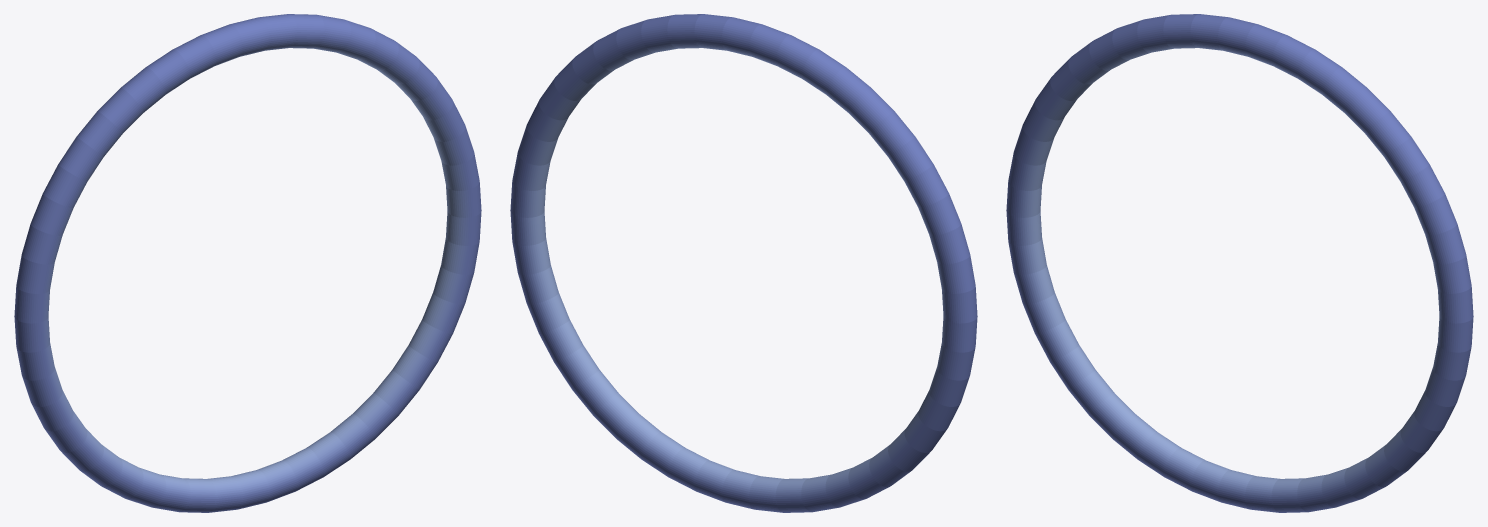
3 views of the same model, side by side, from view 1: azimuth 30°, elevation 25°; view 2: azimuth 150°, elevation 25°; view 3: azimuth 330°, elevation 25° (orthographic).
Visible parts, largest first — view 1: world; view 2: world; view 3: world.
Part boxes in pixels (bbox=[...]): world: bbox=[14, 14, 481, 512]; world: bbox=[510, 14, 977, 512]; world: bbox=[1006, 14, 1473, 512].
Bounding box in the file's own units: 31.33 × 31.27 × 2.
